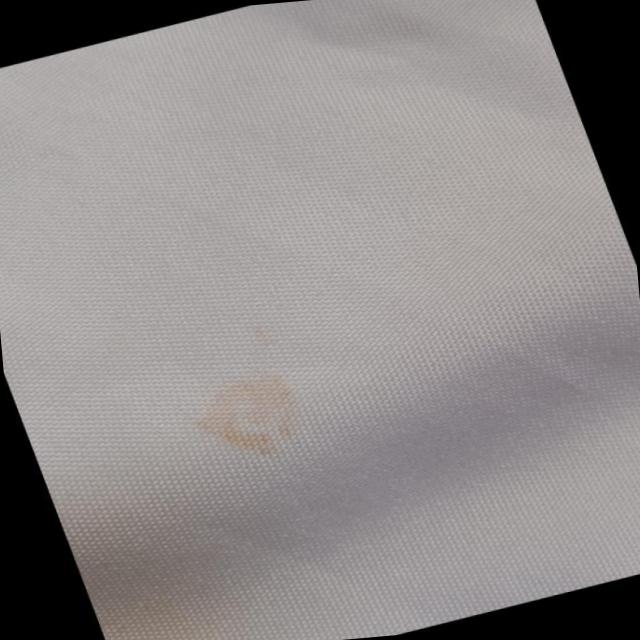stain: (178, 350, 326, 475)
